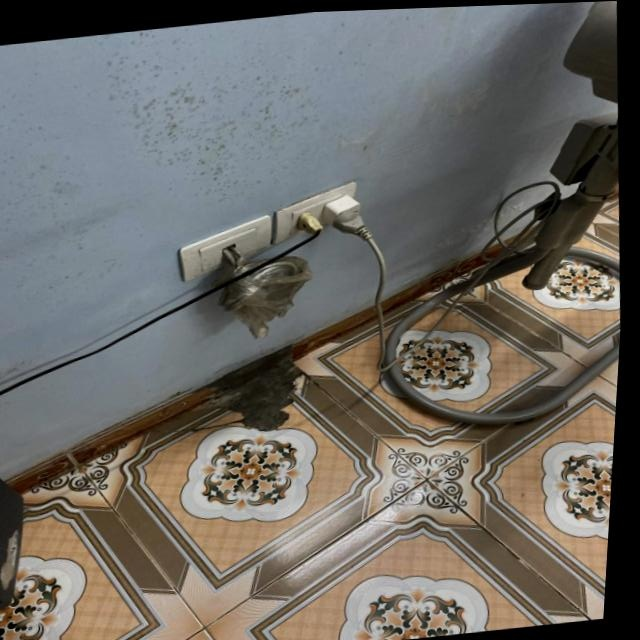outlet: (176, 214, 278, 282), (271, 179, 363, 245)
